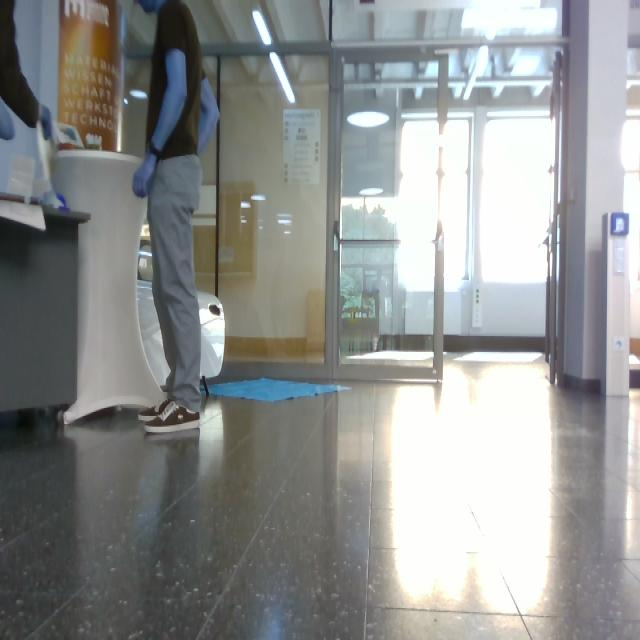banner: (59, 1, 122, 148)
desk: (1, 210, 90, 412)
door: (327, 38, 570, 384)
light bulb: (270, 53, 295, 104), (253, 9, 273, 45)
person: (133, 1, 219, 433), (1, 1, 58, 148), (1, 110, 12, 140)
table: (56, 152, 164, 424)
